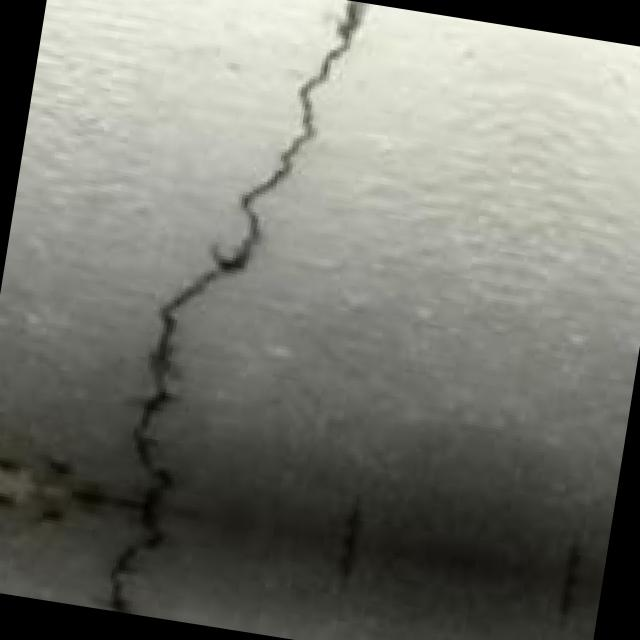crack: (74, 0, 449, 640)
